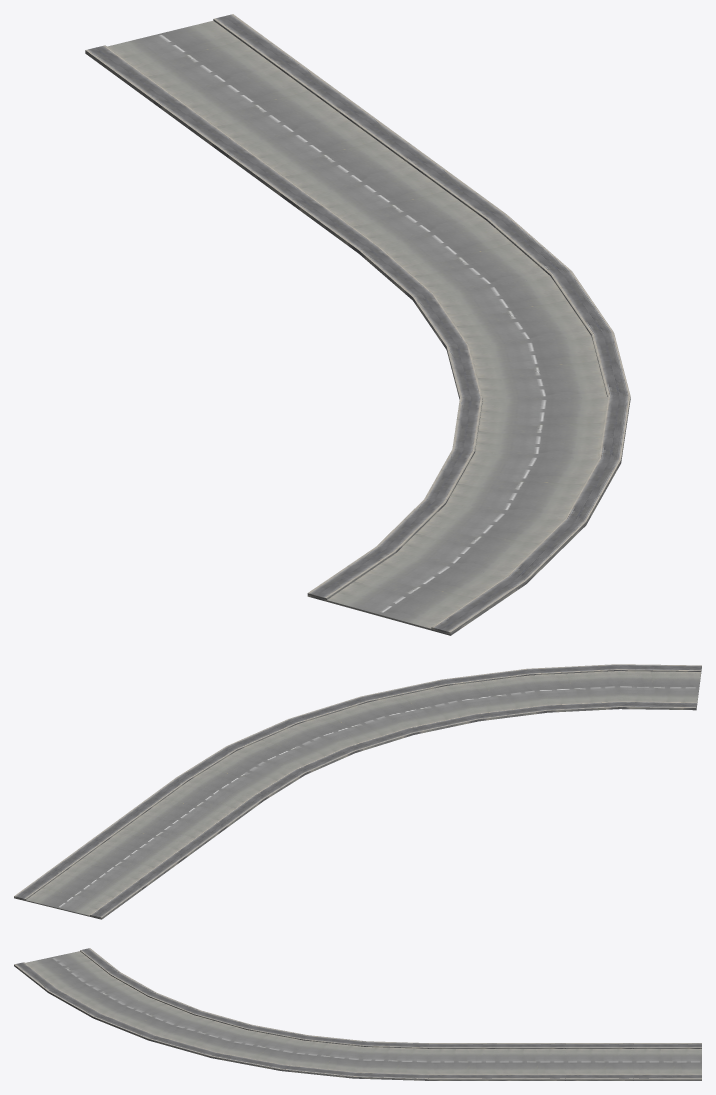
The model's file is curved road.fbx.
3 views of the same model, one above another, from view 1: azimuth 30°, elevation 25°; view 2: azimuth 150°, elevation 25°; view 3: azimuth 270°, elevation 25° (orthographic). The views are drawn at different scales.
Visible parts, largest first — view 1: polySurface1; view 2: polySurface1; view 3: polySurface1.
Part boxes in pixels (bbox=[...]): polySurface1: bbox=[85, 14, 630, 635]; polySurface1: bbox=[14, 664, 701, 919]; polySurface1: bbox=[14, 948, 701, 1080].
Size of the model in its own units: 32.35 by 0.2 by 71.73.
